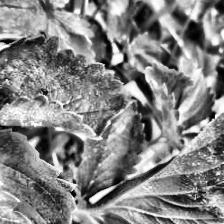Powdery Mildew Leaf: (85, 66, 224, 224), (0, 34, 133, 140), (0, 0, 47, 36)
